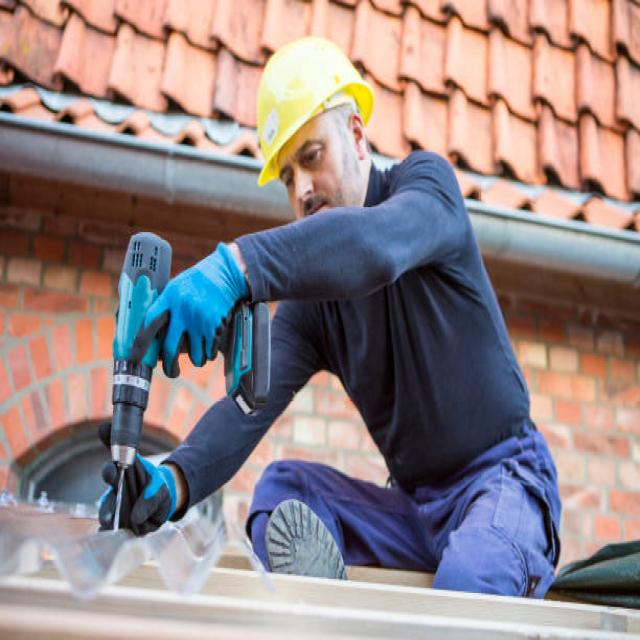gloves: (126, 242, 245, 382), (92, 420, 177, 538)
